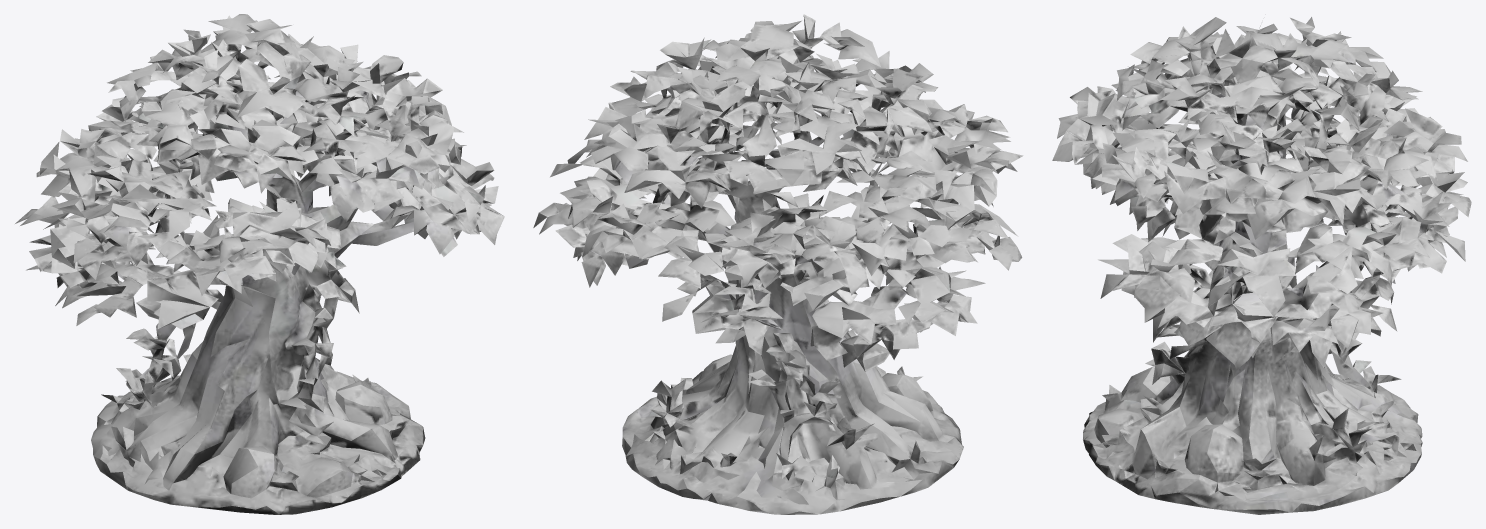
Rendered from tree-silver.glb.
3 renders of one model, left to right at view 1: azimuth 30°, elevation 25°; view 2: azimuth 150°, elevation 25°; view 3: azimuth 270°, elevation 25°, orthographic.
Parts seen in each view (by area): view 1: geometry_0; view 2: geometry_0; view 3: geometry_0.
Part boxes in pixels (x1,y1,x2,y2): geometry_0: (15, 14, 504, 514); geometry_0: (533, 14, 1023, 514); geometry_0: (1052, 17, 1471, 514).
Bounding box in the file's own units: 0.3685 × 0.35 × 0.3187.
1 material, 1 textured.
